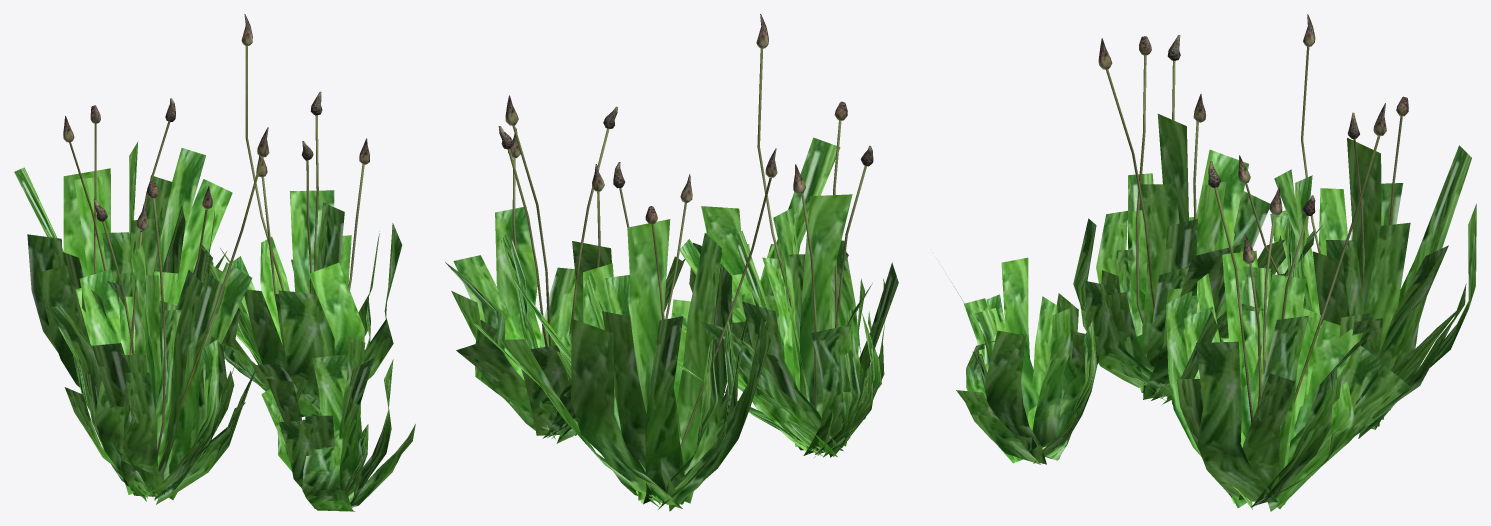
Rendered from grass-2.glb.
3 renders of one model, left to right at view 1: azimuth 30°, elevation 25°; view 2: azimuth 150°, elevation 25°; view 3: azimuth 270°, elevation 25°, orthographic. The views are drawn at different scales.
Visible parts, largest first — view 1: ribwort.002_2, ribwort.003_3, ribwort.001_0, ribwort_1, BezierCurve.002_6, BezierCurve.001_5, BezierCurve_4; view 2: ribwort.001_0, ribwort.002_2, ribwort.003_3, ribwort_1, BezierCurve.002_6, BezierCurve.001_5, BezierCurve_4; view 3: ribwort.003_3, ribwort.002_2, ribwort.001_0, ribwort_1, BezierCurve.002_6, BezierCurve.001_5, BezierCurve_4.
Boxes of the visible parts, x1=… form: ribwort.002_2: x1=46, y1=242, x2=259, y2=504; ribwort.003_3: x1=208, y1=190, x2=402, y2=416; ribwort.001_0: x1=14, y1=141, x2=232, y2=387; ribwort_1: x1=261, y1=336, x2=415, y2=511; BezierCurve.002_6: x1=241, y1=14, x2=369, y2=309; BezierCurve.001_5: x1=93, y1=127, x2=269, y2=460; BezierCurve_4: x1=63, y1=98, x2=212, y2=274; ribwort.001_0: x1=472, y1=219, x2=770, y2=511; ribwort.002_2: x1=672, y1=194, x2=898, y2=457; ribwort.003_3: x1=445, y1=207, x2=685, y2=443; ribwort_1: x1=689, y1=137, x2=848, y2=339; BezierCurve.002_6: x1=498, y1=95, x2=617, y2=370; BezierCurve.001_5: x1=756, y1=14, x2=873, y2=409; BezierCurve_4: x1=613, y1=148, x2=777, y2=449; ribwort.003_3: x1=1166, y1=250, x2=1410, y2=511; ribwort.002_2: x1=1073, y1=114, x2=1322, y2=404; ribwort.001_0: x1=1270, y1=137, x2=1476, y2=438; ribwort_1: x1=942, y1=257, x2=1098, y2=464; BezierCurve.002_6: x1=1208, y1=103, x2=1386, y2=422; BezierCurve.001_5: x1=1098, y1=35, x2=1206, y2=323; BezierCurve_4: x1=1238, y1=14, x2=1408, y2=300.
Bounding box in the file's own units: 1.47 × 1.46 × 1.8.
3 materials, 3 textured.
